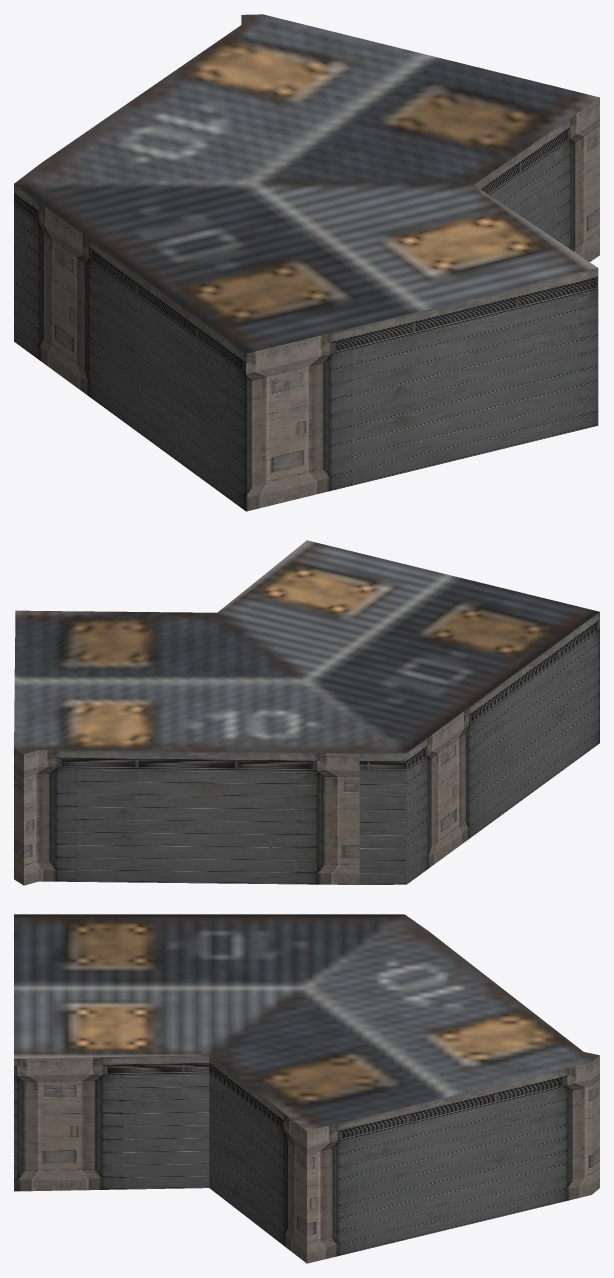
The model's file is hangar_light_a_10.glb.
The picture shows the model from 3 angles, top to bottom: view 1: azimuth 30°, elevation 25°; view 2: azimuth 150°, elevation 25°; view 3: azimuth 270°, elevation 25°; orthographic projection. The views are drawn at different scales.
Parts seen in each view (by area): view 1: buildings/saxarba/hangar_light/hangar_light_a_10; view 2: buildings/saxarba/hangar_light/hangar_light_a_10; view 3: buildings/saxarba/hangar_light/hangar_light_a_10.
Part boxes in pixels (x1,y1,x2,y2): buildings/saxarba/hangar_light/hangar_light_a_10: (14, 14, 599, 511); buildings/saxarba/hangar_light/hangar_light_a_10: (14, 540, 599, 885); buildings/saxarba/hangar_light/hangar_light_a_10: (14, 914, 599, 1263).
Bounding box in the file's own units: 63 × 18 × 72.
